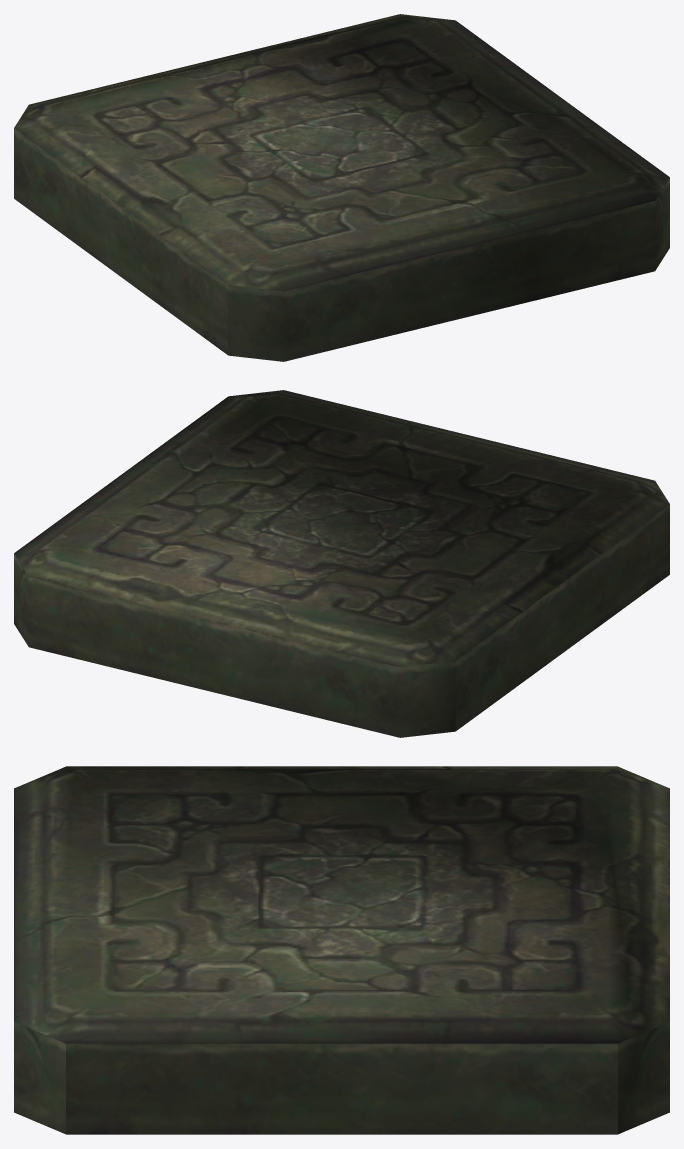
The model's file is mogu_ruins_groundtile_01.obj.
3 renders of one model, top to bottom at view 1: azimuth 30°, elevation 25°; view 2: azimuth 150°, elevation 25°; view 3: azimuth 270°, elevation 25°, orthographic. The views are drawn at different scales.
Visible parts, largest first — view 1: Geoset_000; view 2: Geoset_000; view 3: Geoset_000.
Part boxes in pixels (<box>): Geoset_000: <box>14,14,669,361</box>; Geoset_000: <box>14,390,669,737</box>; Geoset_000: <box>14,766,669,1134</box>.
Size of the model in its own units: 0.8953 by 0.1707 by 0.8953.
